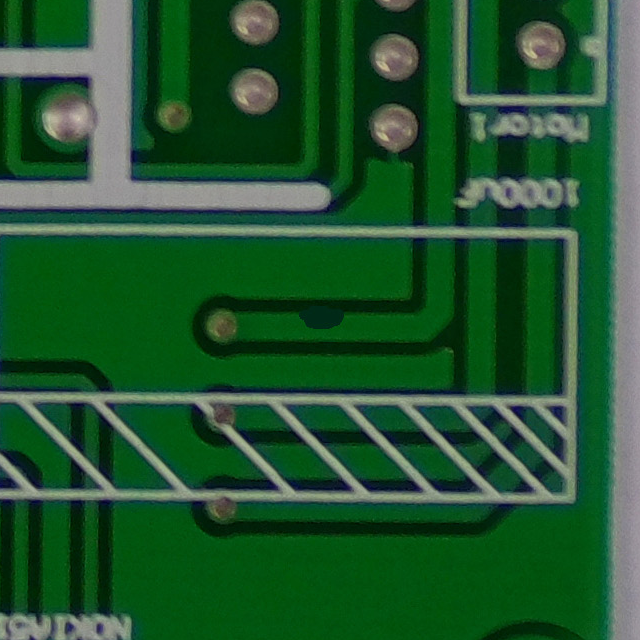mouse_bite: (278, 292, 363, 348)
